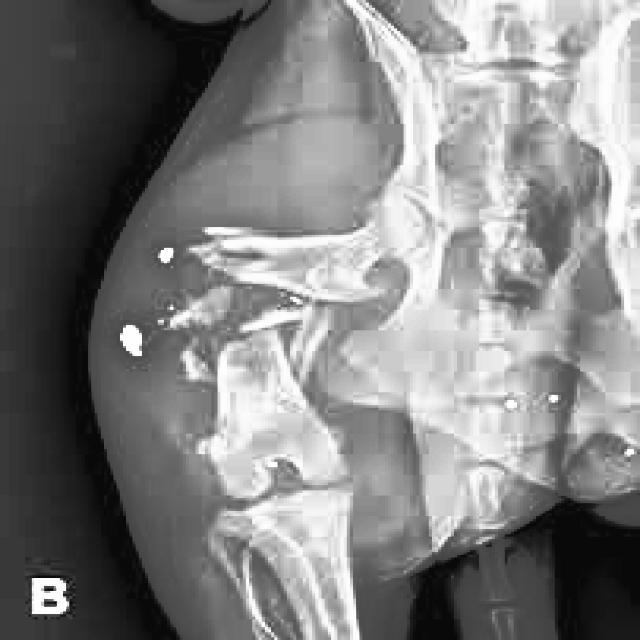Comminuted Fracture: (137, 214, 319, 396)
